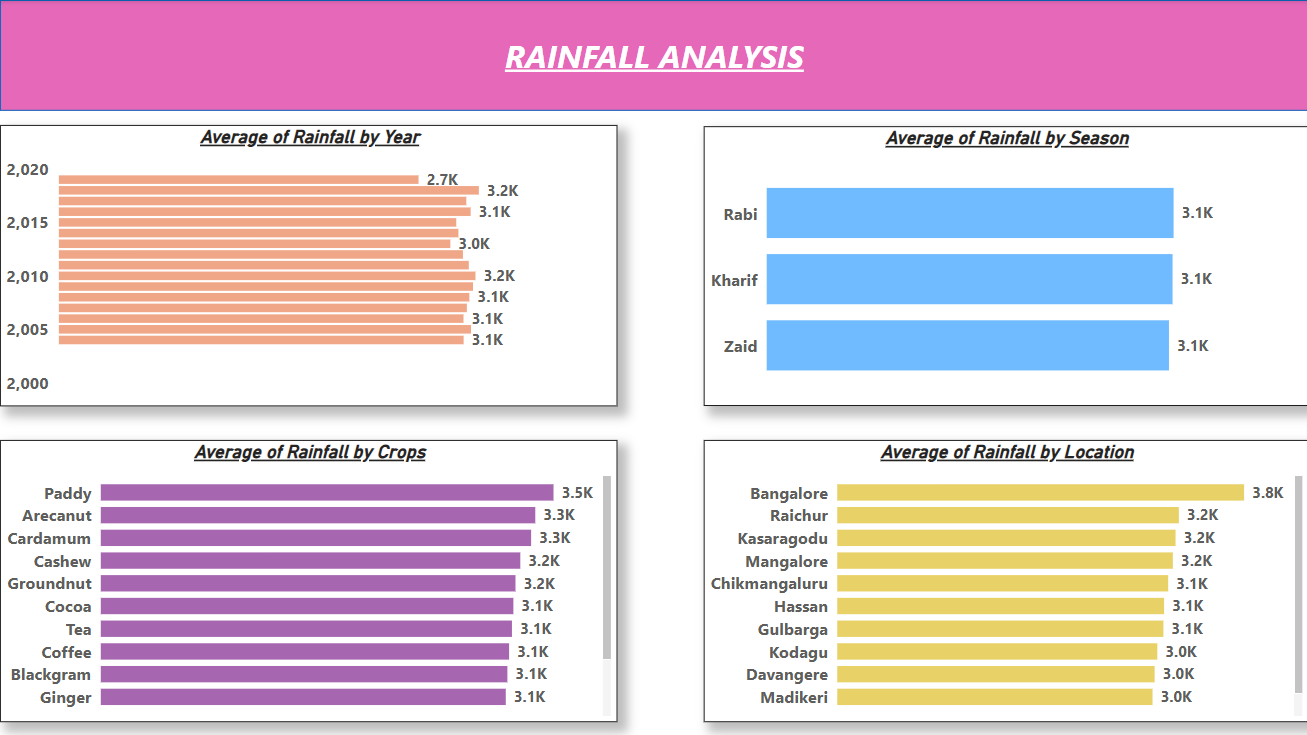

What the dashboard file says about the page in this screenshot:
{"tool":"powerbi","page":{"name":"Rainfall Analysis","canvas":[1280,720],"ordinal":0},"visuals":[{"type":"shape","box":[0,0,1280.3,108.4],"z":0},{"type":"barChart","title":"Average of Rainfall by Year ","fields":{"Y":["Avg(AGRICULTURE.RAINFALL)"],"Category":["AGRICULTURE.YEAR"]},"box":[0,122.3,604.1,275.1],"z":1000},{"type":"barChart","title":"Average of Rainfall by Crops","fields":{"Y":["Avg(AGRICULTURE.RAINFALL)"],"Category":["AGRICULTURE.CROPS"]},"box":[0,430.4,604.1,276.4],"z":2000},{"type":"barChart","title":"Average of Rainfall by Season","fields":{"Y":["Avg(AGRICULTURE.RAINFALL)"],"Category":["AGRICULTURE.SEASON"]},"box":[688.5,123.5,591.9,273.9],"z":3000},{"type":"barChart","title":"Average of Rainfall by Location","fields":{"Y":["Avg(AGRICULTURE.RAINFALL)"],"Category":["AGRICULTURE.LOCATION"]},"box":[688.5,430.4,591.9,276.4],"z":4000}]}

Visuals, with their boxes in screenshot pixels (x1, y1, x2, y2), scaled from the page's 1280x720 canvas onto the 1307x735 screenshot:
shape: box(0, 0, 1306, 111)
"Average of Rainfall by Year " barChart: box(0, 125, 617, 406)
"Average of Rainfall by Crops" barChart: box(0, 439, 617, 722)
"Average of Rainfall by Season" barChart: box(703, 126, 1306, 406)
"Average of Rainfall by Location" barChart: box(703, 439, 1306, 722)
